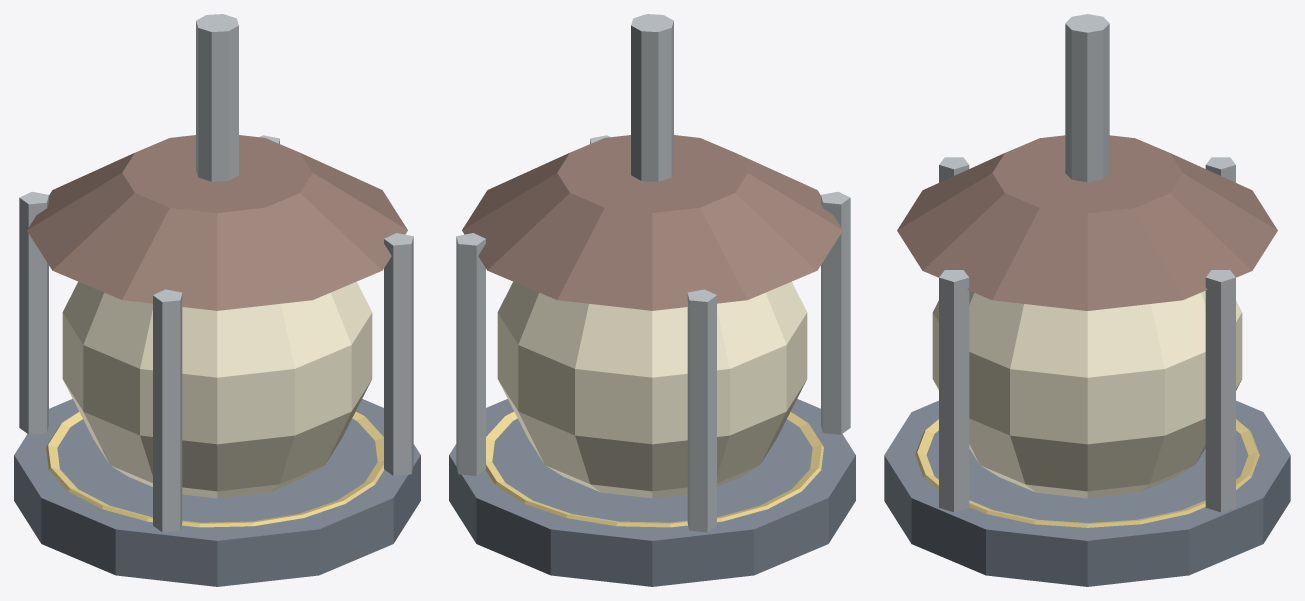
The model's file is lampara_colgante.glb.
3 renders of one model, left to right at view 1: azimuth 30°, elevation 25°; view 2: azimuth 150°, elevation 25°; view 3: azimuth 270°, elevation 25°, orthographic.
Visible parts, largest first — view 1: lampara_colgante; view 2: lampara_colgante; view 3: lampara_colgante.
Part boxes in pixels (x1,y1,x2,y2): lampara_colgante: (14, 14, 420, 586); lampara_colgante: (449, 14, 855, 586); lampara_colgante: (884, 14, 1290, 586).
Size of the model in its own units: 0.64 by 0.83 by 0.64.
